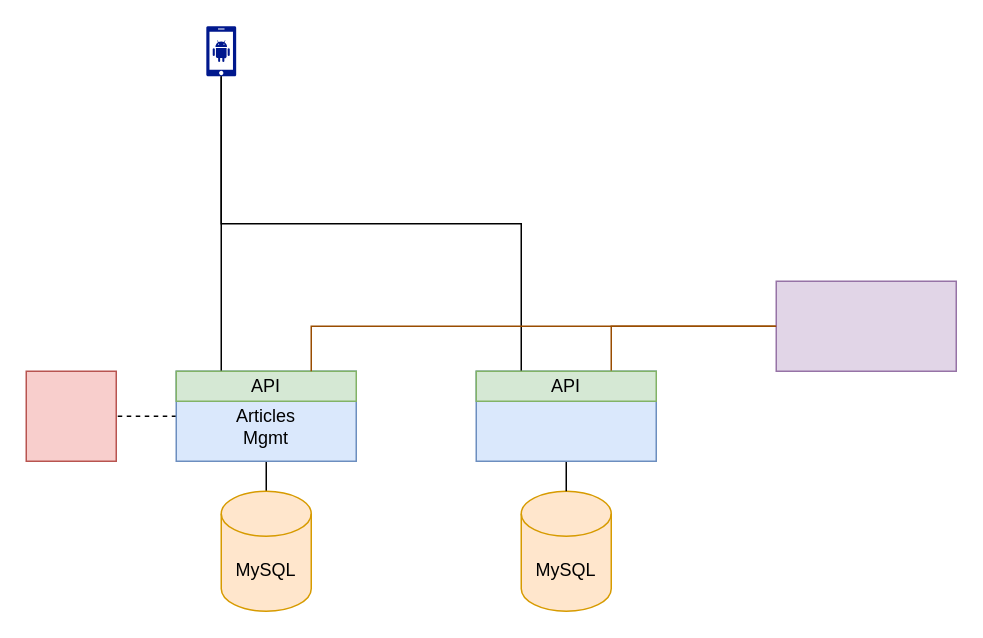
The diagram is 983 pixels wide and 638 high, and some of its shapes have lost their labels. Each missing label, with the box of its shape:
Feeds Mgmt: (475, 370, 656, 461)
Fetcher: (775, 280, 956, 371)
Redis: (25, 370, 116, 461)
